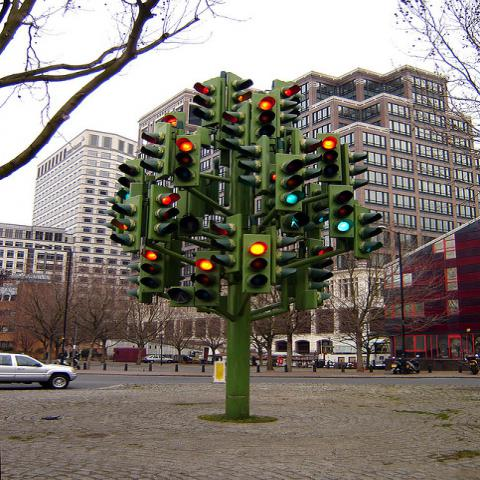car: (141, 354, 174, 364)
motorcycle: (390, 359, 409, 374), (466, 354, 479, 374), (406, 355, 420, 372)
truck: (0, 352, 76, 389)
